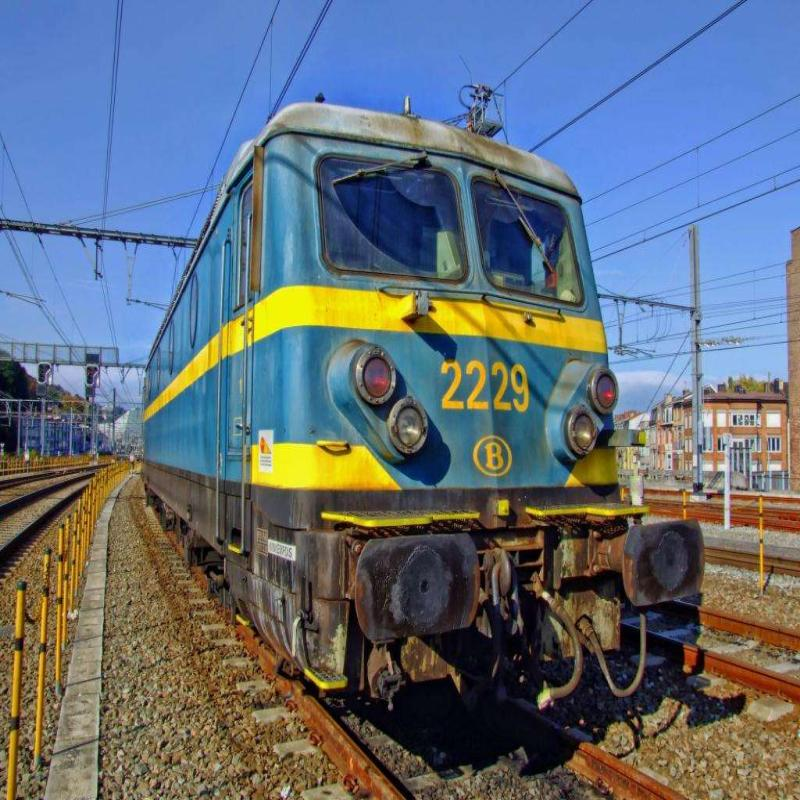train: (139, 98, 708, 730)
